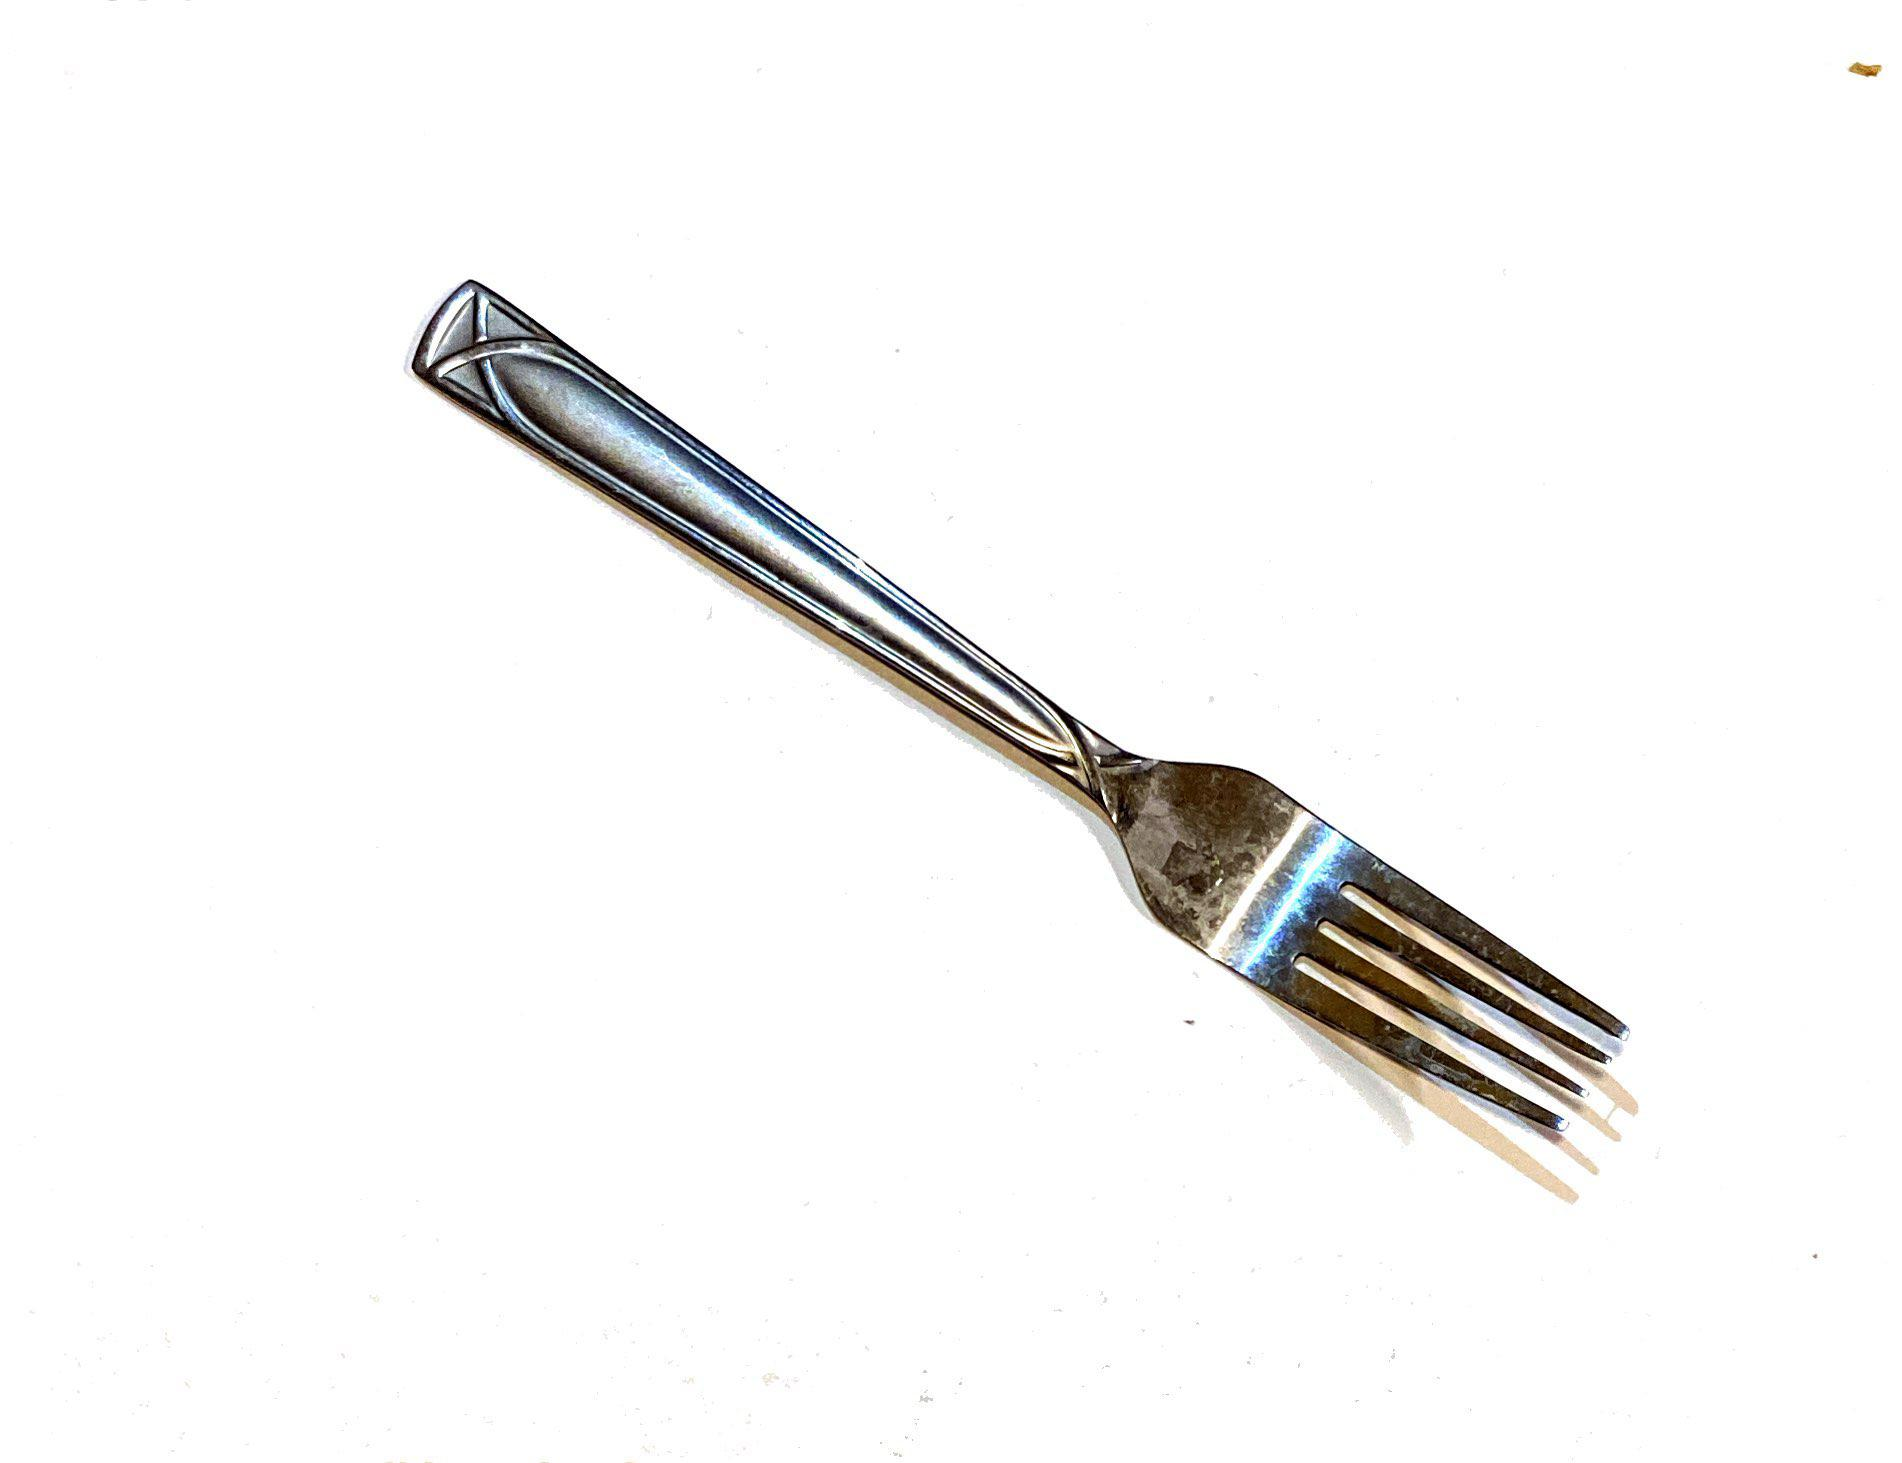Fork: (373, 157, 1733, 1325)
